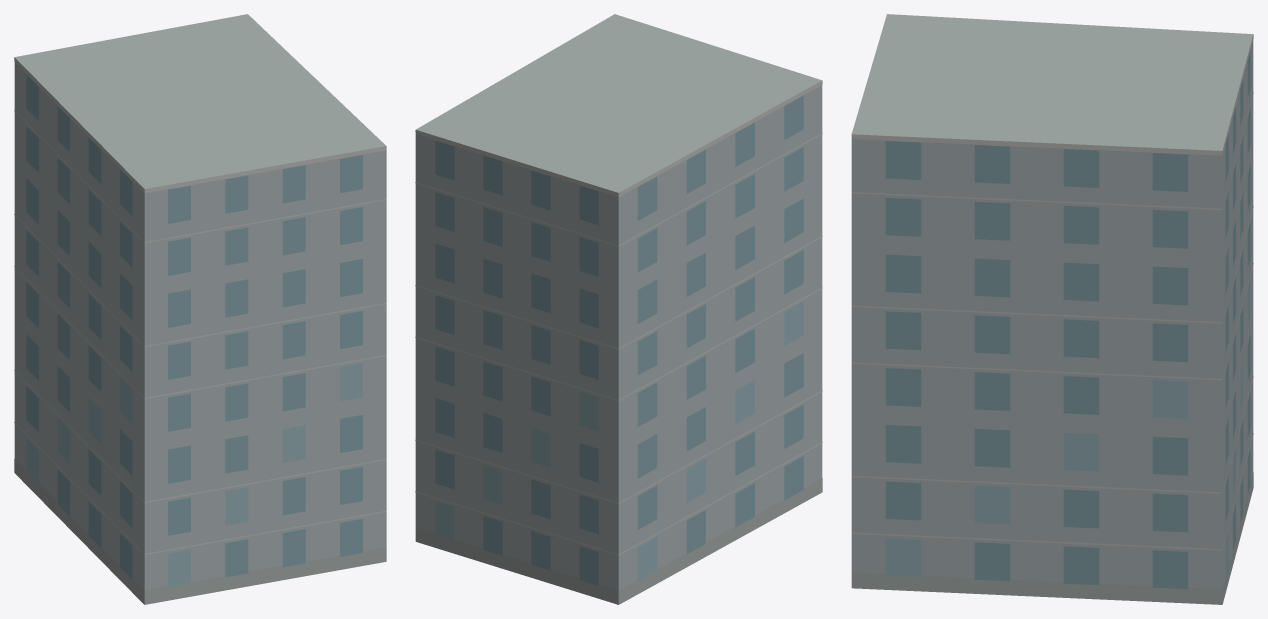
Rendered from survey-upis-32811103.glb.
3 renders of one model, left to right at view 1: azimuth 30°, elevation 25°; view 2: azimuth 150°, elevation 25°; view 3: azimuth 270°, elevation 25°, orthographic. The views are drawn at different scales.
Parts seen in each view (by area): view 1: survey-upis-32811103.tmp; view 2: survey-upis-32811103.tmp; view 3: survey-upis-32811103.tmp.
Part boxes in pixels (box(x1,y1,x2,y2)): survey-upis-32811103.tmp: box(14, 14, 386, 604); survey-upis-32811103.tmp: box(415, 14, 822, 604); survey-upis-32811103.tmp: box(851, 14, 1253, 604).
Size of the model in its own units: 15.13 by 23.35 by 18.76.
